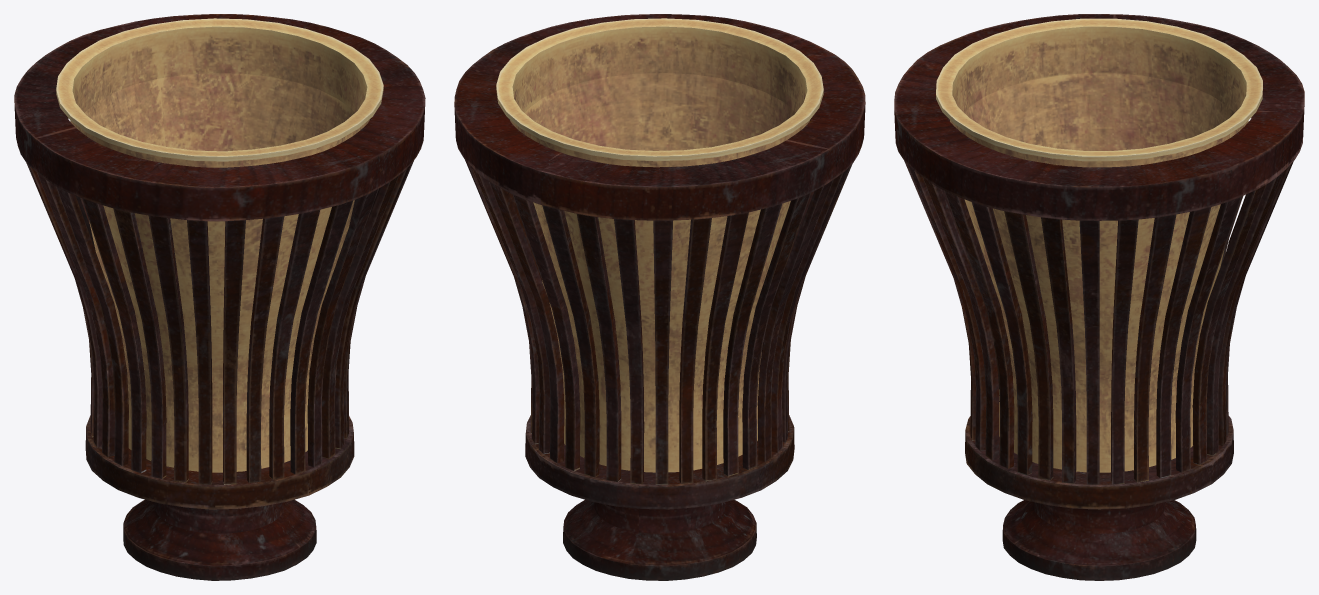
Rendered from SM_Dustbin.fbx.
The picture shows the model from 3 angles, left to right: view 1: azimuth 30°, elevation 25°; view 2: azimuth 150°, elevation 25°; view 3: azimuth 270°, elevation 25°; orthographic projection.
Parts seen in each view (by area): view 1: SM_Dustbin_LOD0; view 2: SM_Dustbin_LOD0; view 3: SM_Dustbin_LOD0.
Part boxes in pixels (x1,y1,x2,y2): SM_Dustbin_LOD0: [14, 14, 425, 580]; SM_Dustbin_LOD0: [454, 14, 865, 580]; SM_Dustbin_LOD0: [894, 14, 1304, 580].
Size of the model in its own units: 20.44 by 20.44 by 24.86.
1 material, 1 textured.
